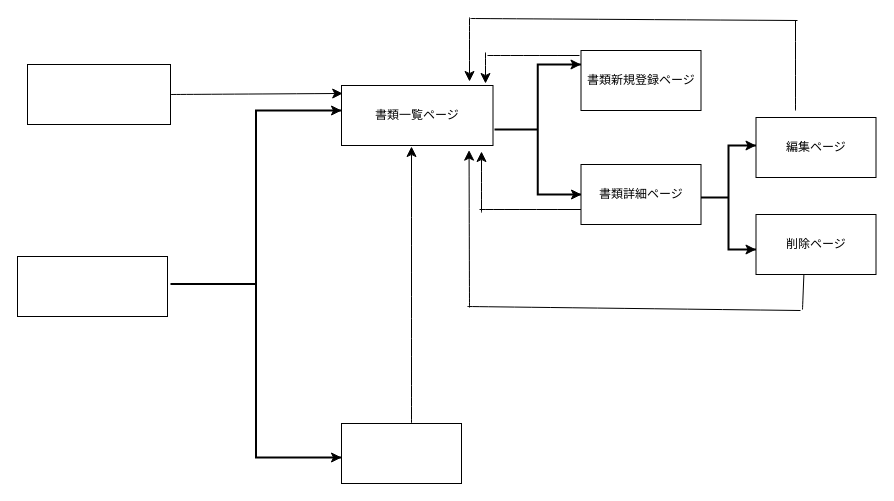
Image size: 894x501. Some labels were removed from this diagram. Here are the shapes that lost their labels. From the top down, the box of each, then its label:
(26, 64, 170, 124): ユーザー新規登録ページ
(16, 256, 168, 316): ユーザーログインページ
(340, 422, 462, 484): ユーザー編集ページ
